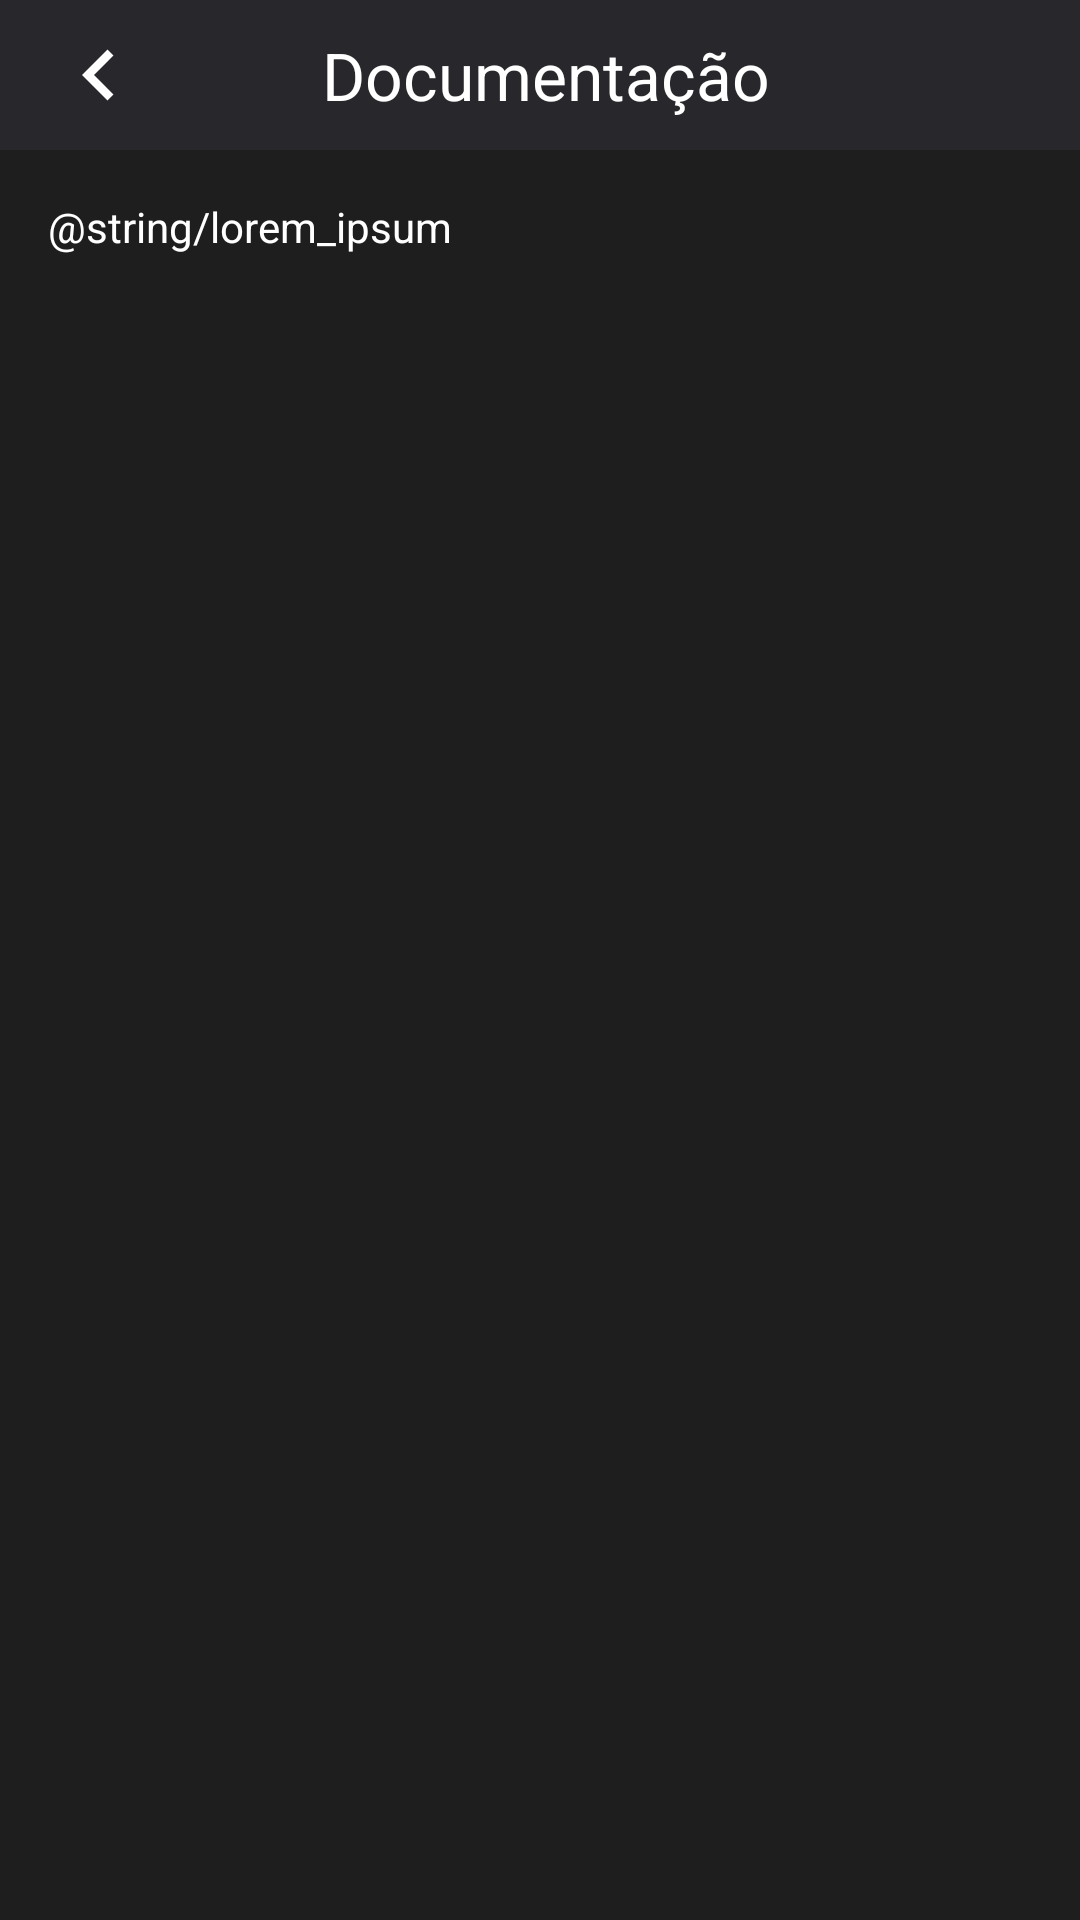

Screen size 1080 × 1920. Icon name, then its center in pixels as point (x, y):
Seta: point (98, 75)
